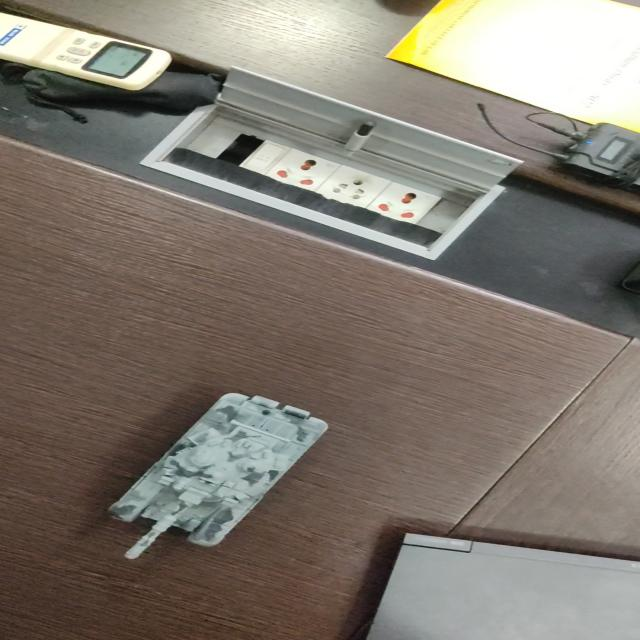tank: (113, 393, 327, 558)
